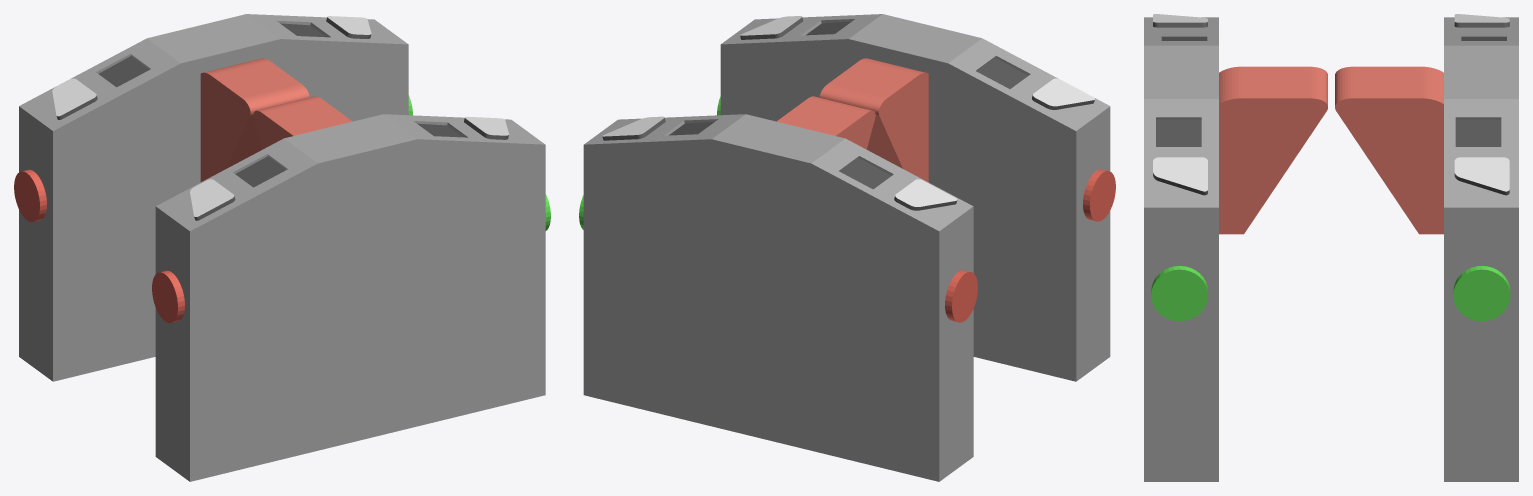
File: Gantry.gltf
The picture shows the model from 3 angles, left to right: view 1: azimuth 30°, elevation 25°; view 2: azimuth 150°, elevation 25°; view 3: azimuth 270°, elevation 25°; orthographic projection. The views are drawn at different scales.
Parts seen in each view (by area): view 1: Gantry; view 2: Gantry; view 3: Gantry.
Boxes of the visible parts, x1,y1,x2,y2 form: Gantry: (14, 14, 550, 481); Gantry: (579, 14, 1115, 481); Gantry: (1144, 14, 1518, 481).
Size of the model in its own units: 2.02 by 1.48 by 1.6.
